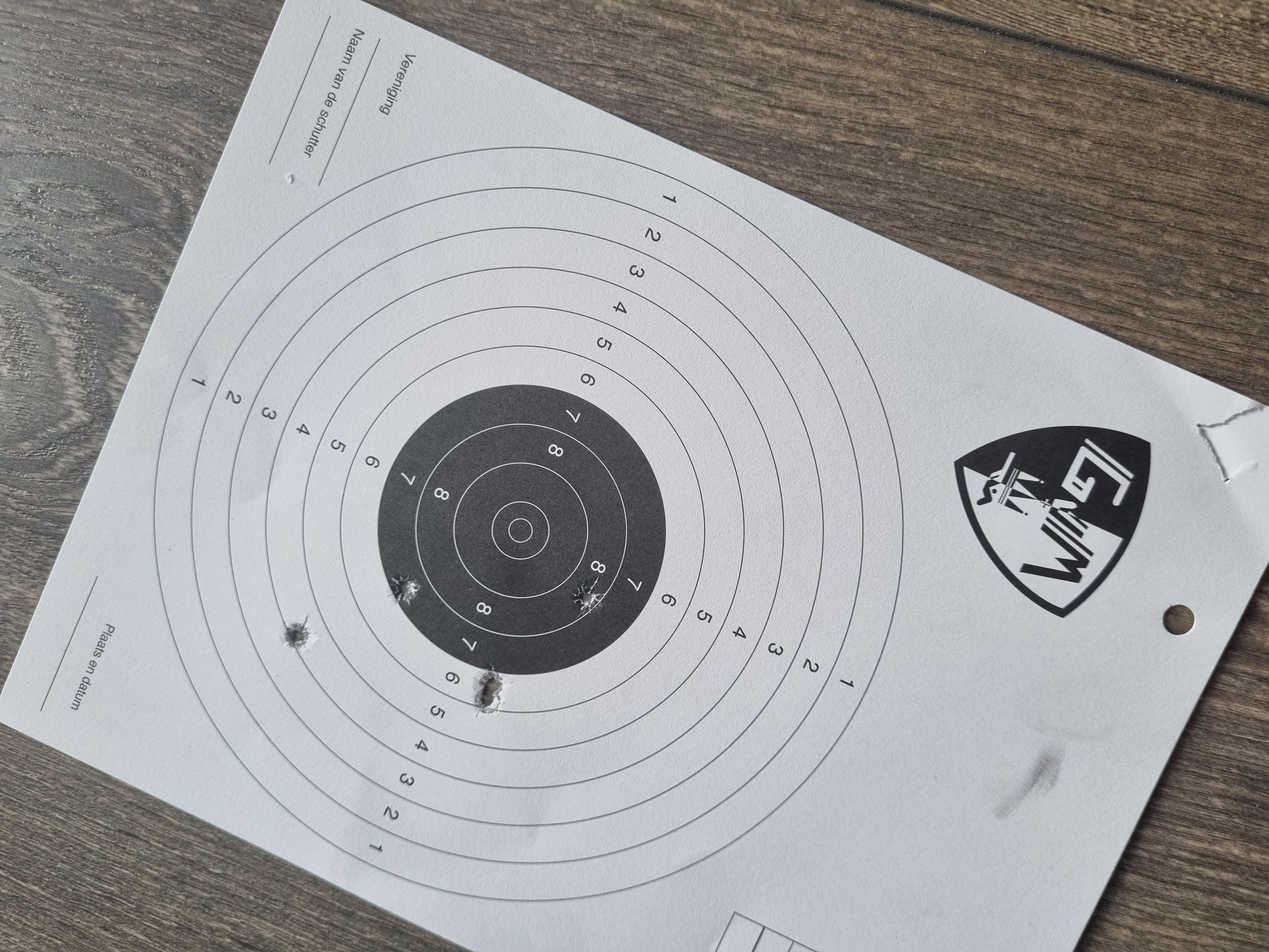hole: (393, 212, 442, 235), (453, 429, 493, 454), (462, 291, 500, 315), (347, 356, 380, 379), (315, 354, 347, 377)
